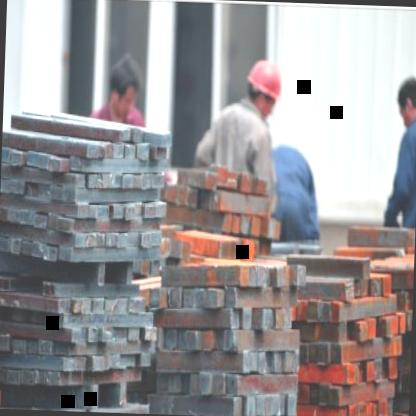head: (104, 52, 146, 116), (395, 74, 416, 131)
helmet: (244, 58, 284, 118)
